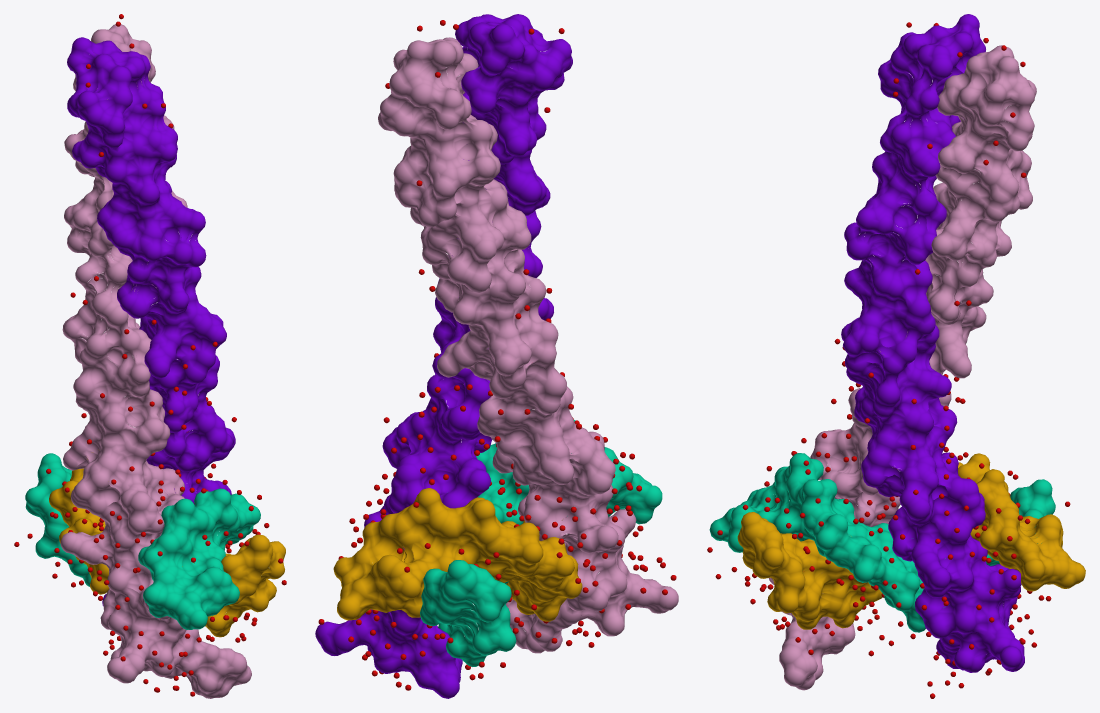
Rendered from all-surfaces-water.glb.
3 views of the same model, side by side, from view 1: azimuth 30°, elevation 25°; view 2: azimuth 150°, elevation 25°; view 3: azimuth 270°, elevation 25° (orthographic). The views are drawn at different scales.
Visible parts, largest first — view 1: vmd_mol0_rep5, vmd_mol0_rep6, vmd_mol0_rep3, vmd_mol0_rep2, vmd_mol0_rep4; view 2: vmd_mol0_rep5, vmd_mol0_rep6, vmd_mol0_rep2, vmd_mol0_rep3, vmd_mol0_rep4; view 3: vmd_mol0_rep6, vmd_mol0_rep5, vmd_mol0_rep2, vmd_mol0_rep3, vmd_mol0_rep4.
Boxes of the visible parts, x1=… form: vmd_mol0_rep5: x1=60, y1=24, x2=251, y2=698; vmd_mol0_rep6: x1=67, y1=37, x2=235, y2=606; vmd_mol0_rep3: x1=25, y1=453, x2=260, y2=629; vmd_mol0_rep2: x1=49, y1=459, x2=285, y2=637; vmd_mol0_rep4: x1=14, y1=14, x2=286, y2=696; vmd_mol0_rep5: x1=378, y1=37, x2=678, y2=653; vmd_mol0_rep6: x1=315, y1=14, x2=572, y2=698; vmd_mol0_rep2: x1=333, y1=488, x2=582, y2=621; vmd_mol0_rep3: x1=420, y1=420, x2=662, y2=666; vmd_mol0_rep4: x1=318, y1=20, x2=676, y2=690; vmd_mol0_rep6: x1=841, y1=14, x2=1024, y2=672; vmd_mol0_rep5: x1=768, y1=45, x2=1036, y2=690; vmd_mol0_rep2: x1=737, y1=453, x2=1085, y2=629; vmd_mol0_rep3: x1=709, y1=453, x2=1055, y2=632; vmd_mol0_rep4: x1=707, y1=22, x2=1070, y2=698.
Size of the model in its own units: 0.6736 by 1.93 by 1.03.
